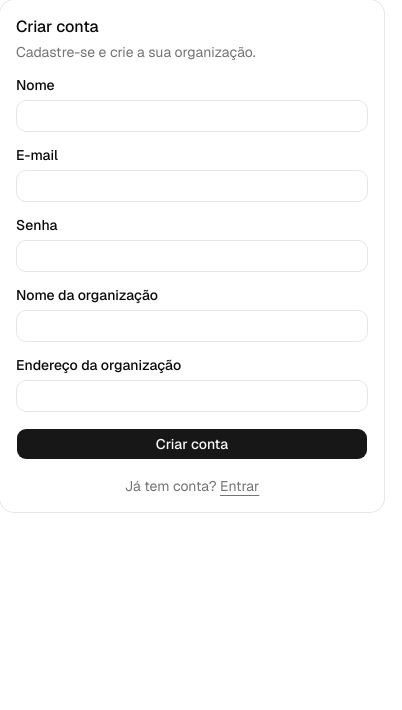
Test: RegisterForm › shows field errors and does not submit invalid input
Type "curta" into the password field labelled "Senha" at (192, 256), box [16,240,368,272]
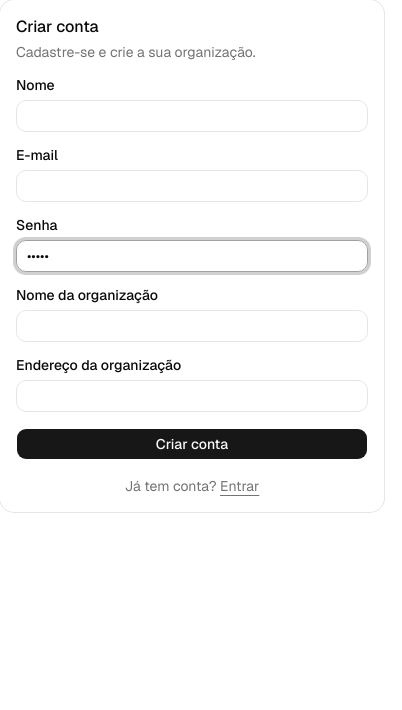
Click the button "Criar conta" at (192, 444), box [16,428,368,460]
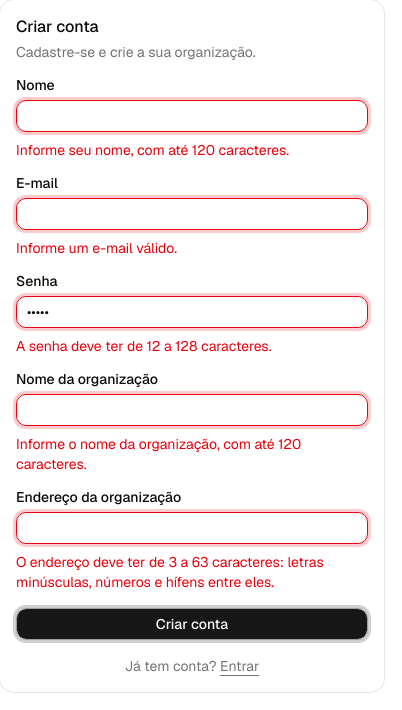
Expected: the text "Informe seu nome, com até 120 caracteres." is shown, [16,141,289,159]
Expected: the text "Informe um e-mail válido." is shown, [16,239,177,257]
Expected: the text "A senha deve ter de 12 a 128 caracteres." is shown, [16,337,272,355]
